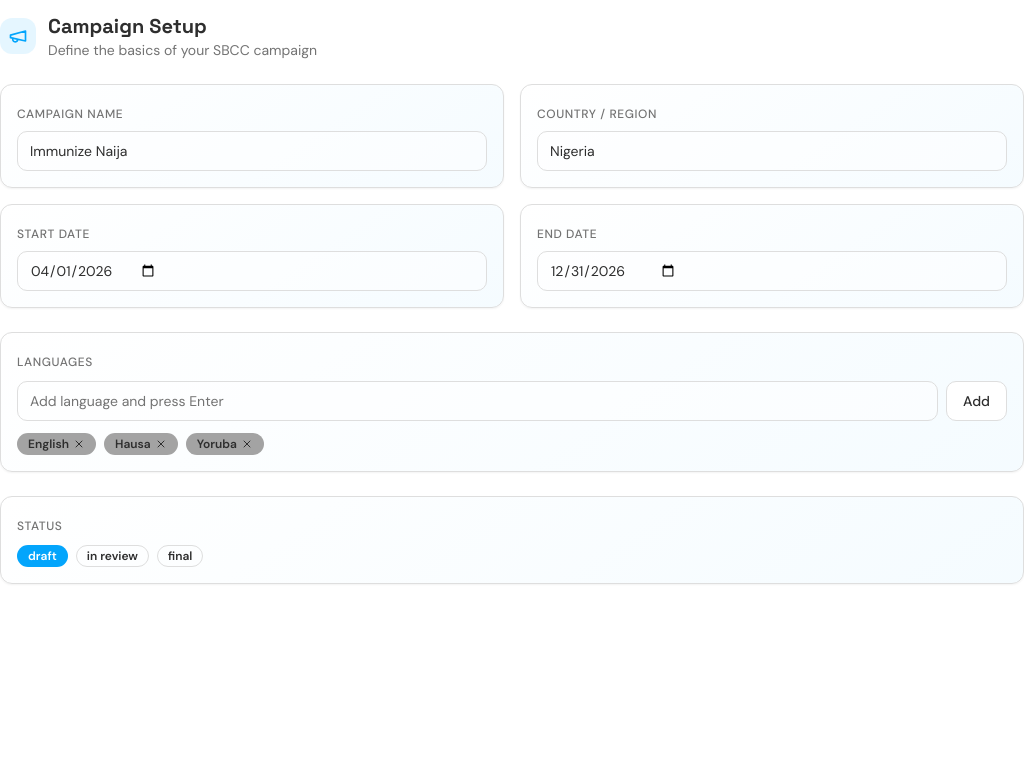
it: CampaignSetup › prevents duplicate languages
The width and height of the screenshot is (1024, 780).
Type "English" into the field with placeholder "Add language and press Enter" at (478, 401), box [17,381,938,421]
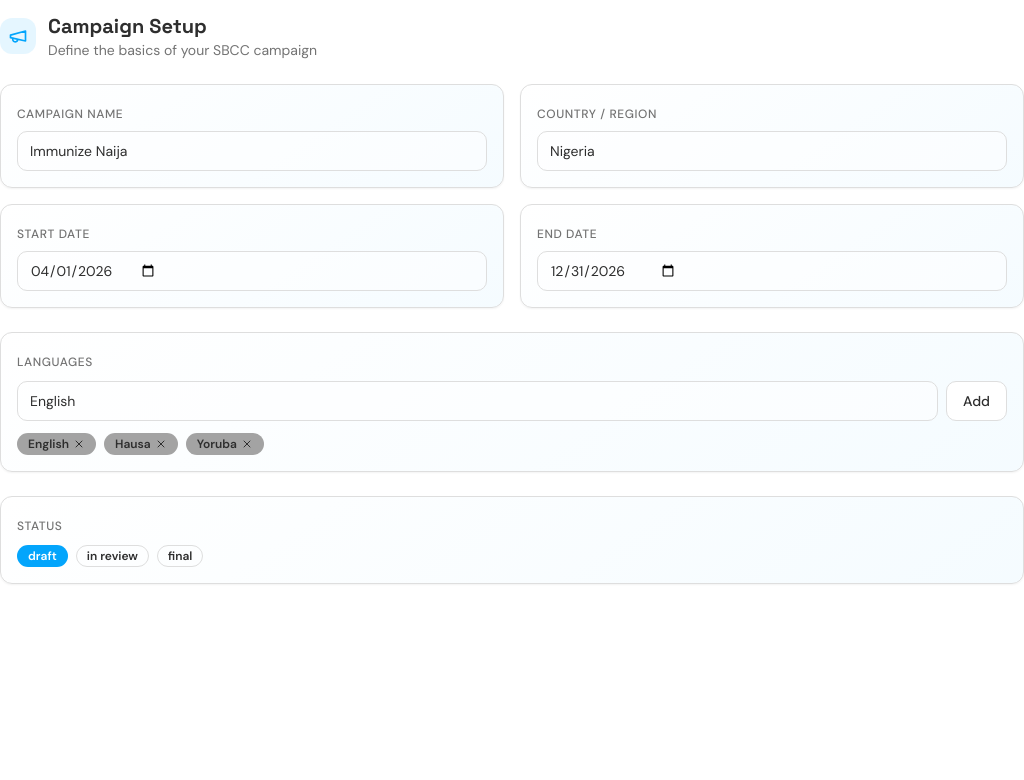
Click the button "Add" at (977, 401), box [946,381,1007,421]
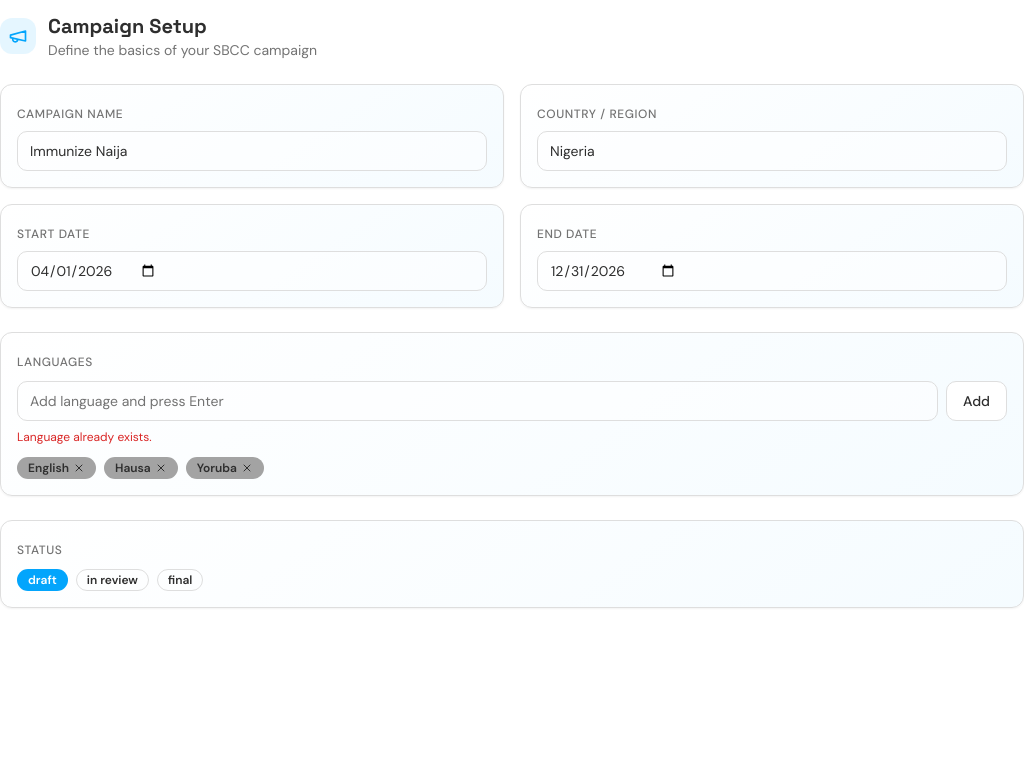
Now the text "Language already exists." is shown, box [17,429,152,445]
